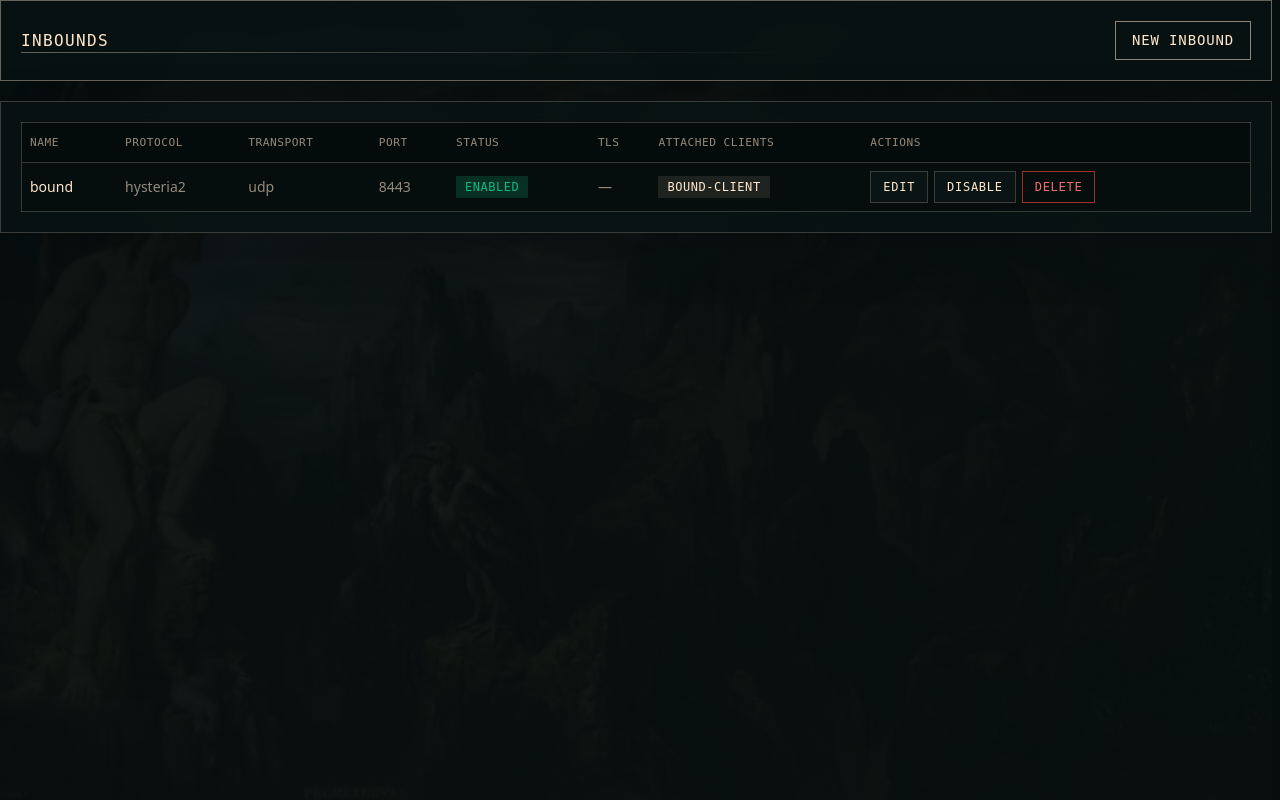
Test: InboundsPage delete confirm › blocks the delete and lists the attached clients instead of claiming detach
The width and height of the screenshot is (1280, 800).
Click the button "Delete" at [1059, 187], box [1022, 171, 1095, 203]
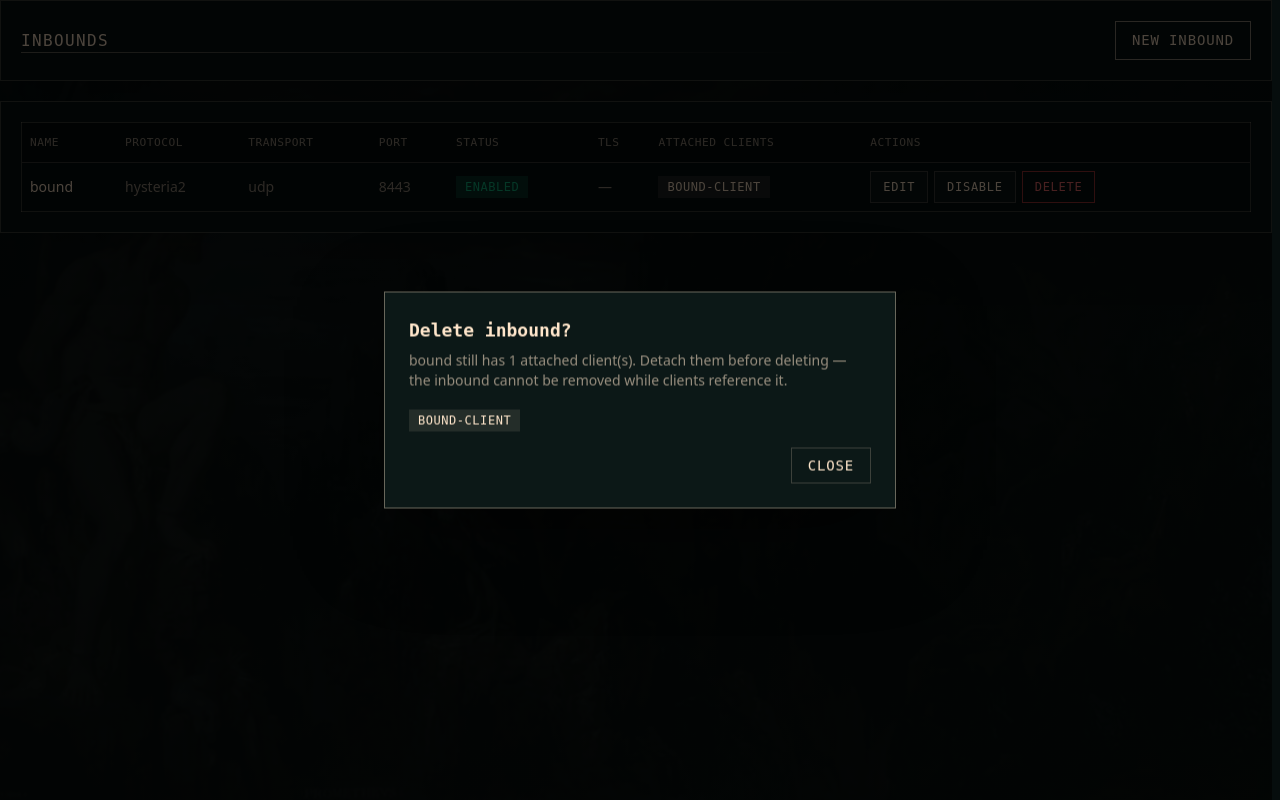
Expected: the text "still has 1 attached client" is shown, [409, 350, 846, 390]
Expected: the link "bound-client" is shown, [409, 406, 520, 432]
